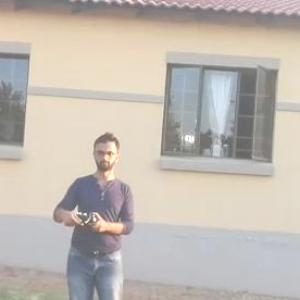follow: (49, 128, 141, 299)
